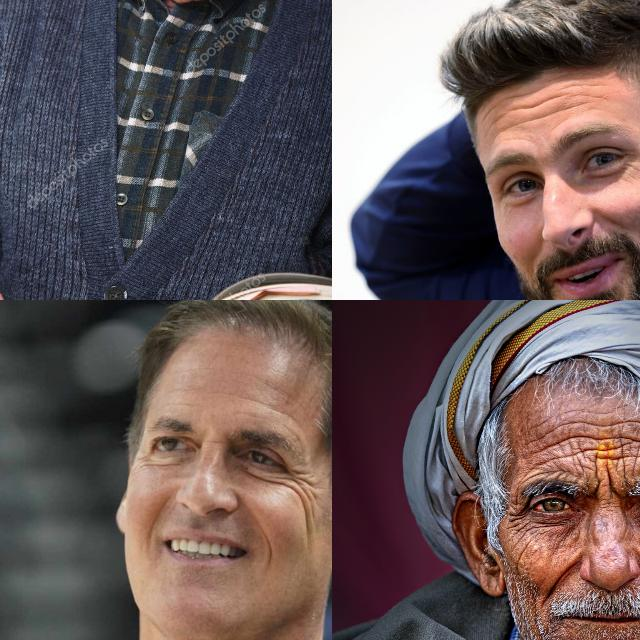crows_feet: (288, 466, 314, 504), (506, 501, 532, 529), (624, 149, 640, 182), (135, 452, 151, 470)
forehead: (572, 82, 612, 114), (245, 396, 295, 420), (598, 417, 638, 447), (521, 92, 563, 120), (531, 456, 569, 482), (486, 104, 512, 138), (531, 416, 557, 448), (587, 454, 621, 478), (566, 419, 592, 448)
frown_line: (590, 473, 622, 505)
gummy_smile: (544, 561, 574, 599), (142, 498, 166, 540), (260, 530, 276, 566)
masseter: (508, 540, 532, 570), (300, 513, 318, 549)
